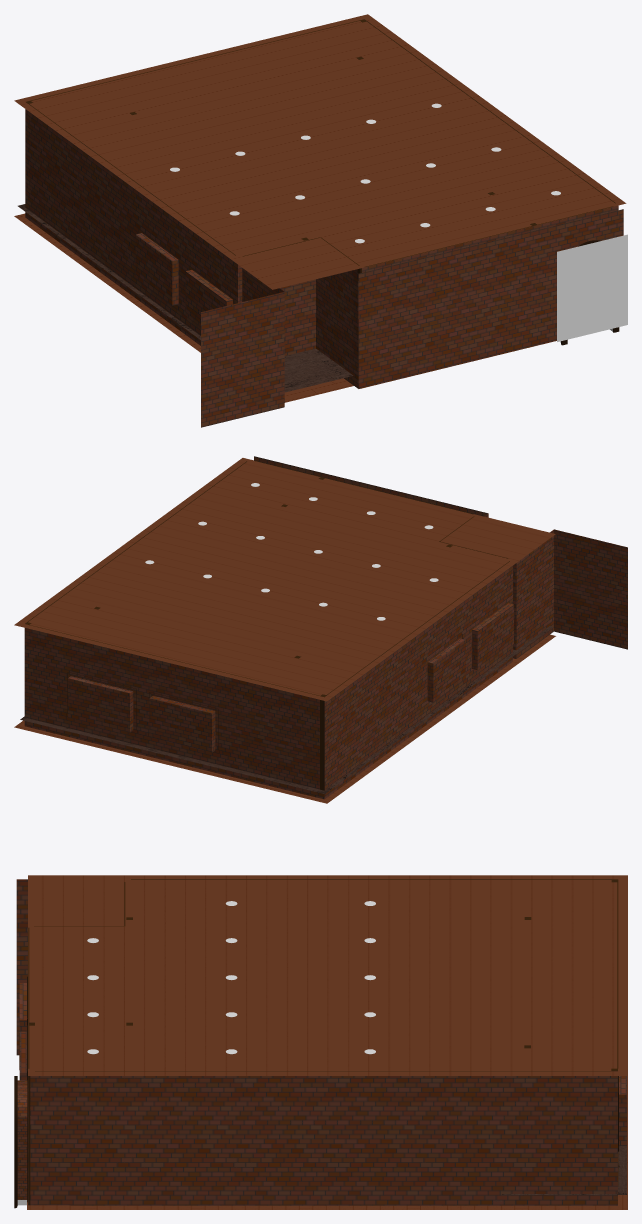
Rendered from Bar_Cut.fbx.
The picture shows the model from 3 angles, top to bottom: view 1: azimuth 30°, elevation 25°; view 2: azimuth 150°, elevation 25°; view 3: azimuth 270°, elevation 25°; orthographic projection. The views are drawn at different scales.
Visible parts, largest first — view 1: Ceilling, Wall, null, Steps, Floor, Pillar, Light; view 2: Ceilling, Wall, Floor, Steps, Pillar; view 3: Ceilling, Wall, Floor, Pillar, Light, Arch, Steps.
Part boxes in pixels (box(x1,y1,x2,y2)): Ceilling: box(14, 14, 626, 289); Wall: box(25, 109, 623, 427); null: box(557, 234, 627, 341); Steps: box(18, 204, 353, 392); Floor: box(14, 213, 353, 402); Pillar: box(26, 19, 615, 273); Light: box(170, 103, 560, 243); Ceilling: box(14, 458, 555, 701); Wall: box(24, 456, 627, 799); Floor: box(14, 634, 555, 803); Steps: box(20, 626, 552, 793); Pillar: box(25, 460, 509, 790); Ceilling: box(28, 875, 627, 1075); Wall: box(16, 879, 626, 1205); Floor: box(27, 1076, 627, 1209); Pillar: box(28, 879, 618, 1205); Light: box(87, 901, 375, 1054); Arch: box(14, 1076, 27, 1208); Steps: box(495, 1146, 626, 1201).
Bounding box in the file's own units: 1213 × 325 × 1292.
